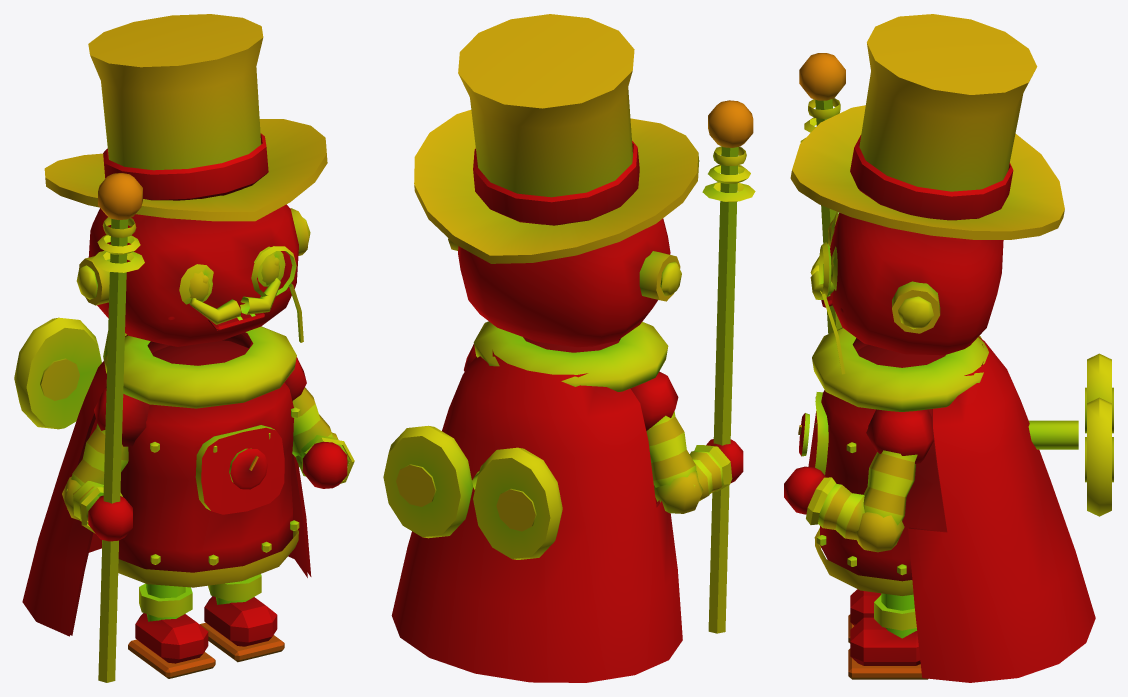
The model's file is RobotMechanist.glb.
3 views of the same model, side by side, from view 1: azimuth 30°, elevation 25°; view 2: azimuth 150°, elevation 25°; view 3: azimuth 270°, elevation 25° (orthographic).
Parts seen in each view (by area): view 1: RobotMechanist; view 2: RobotMechanist; view 3: RobotMechanist.
Part boxes in pixels (x1,y1,x2,y2): RobotMechanist: [14, 14, 354, 682]; RobotMechanist: [383, 14, 755, 682]; RobotMechanist: [784, 14, 1113, 682].
Size of the model in its own units: 0.522 by 1.1 by 0.5388.
